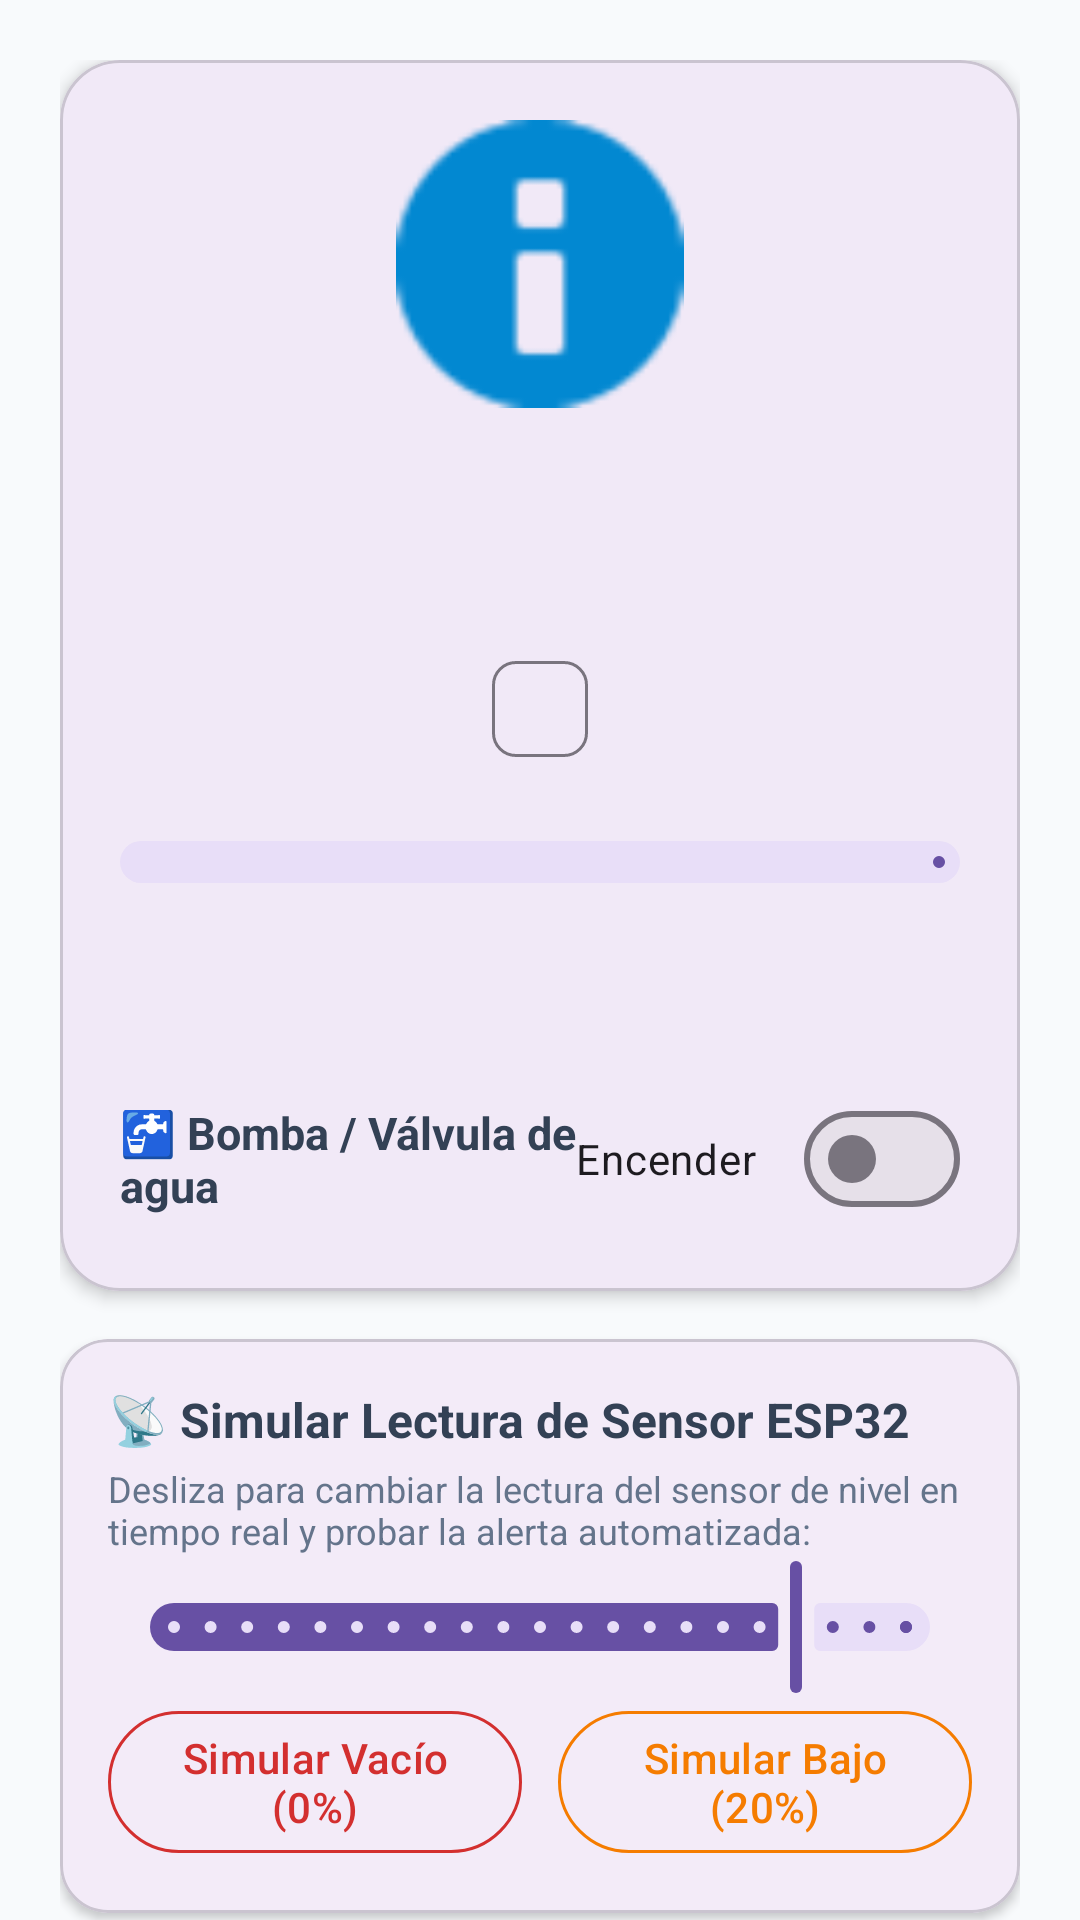

Named icons in this screenshot (1080w x 1920h) and their bounding boxes, (x1,y1,x2,y2):
info: (396,120,684,408)
